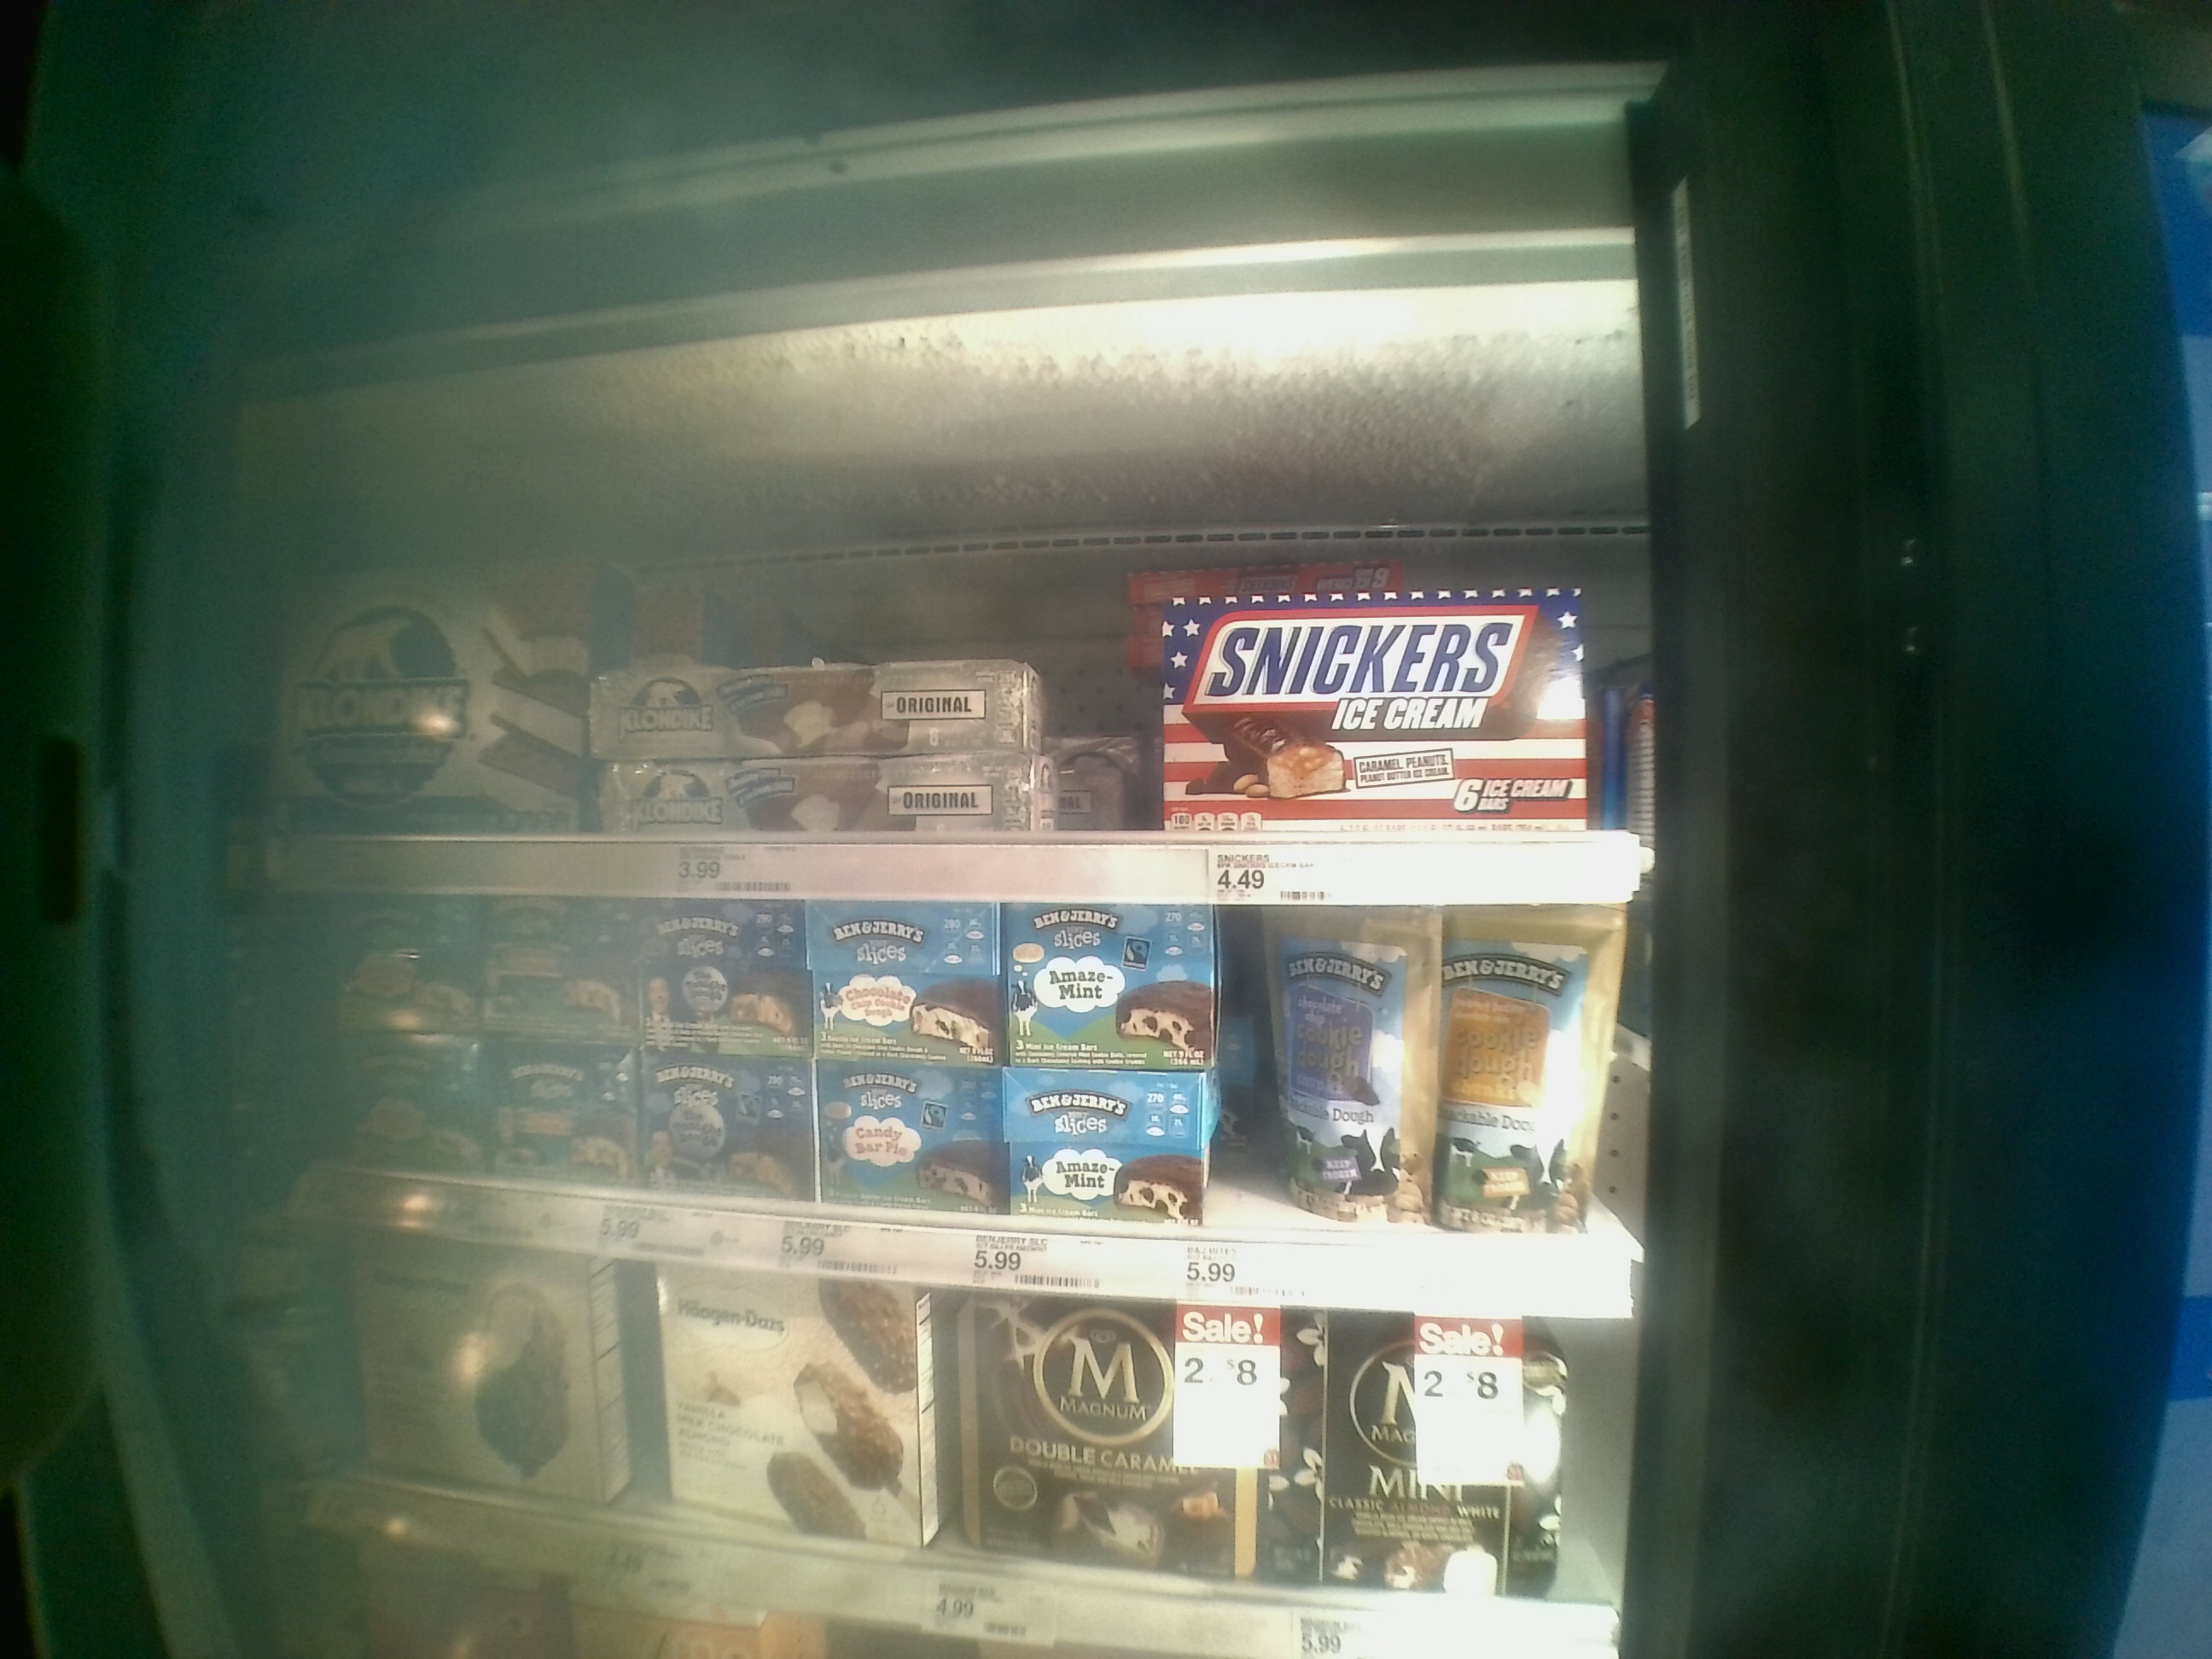shelf: (225, 486, 1669, 908), (244, 910, 1646, 1328)
